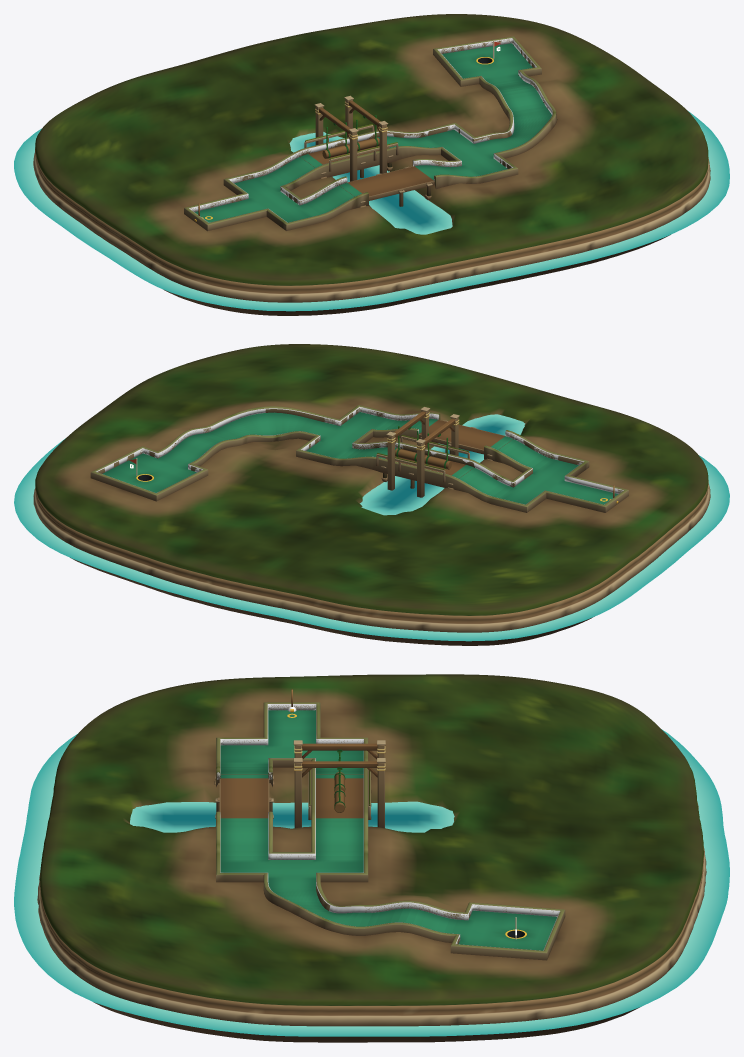
File: course-10.glb
3 views of the same model, one above another, from view 1: azimuth 30°, elevation 25°; view 2: azimuth 150°, elevation 25°; view 3: azimuth 270°, elevation 25° (orthographic). The views are drawn at different scales.
Visible parts, largest first — view 1: scenery-matte, floor-felt, water-shore, rail-trim, rail-stone, scenery-water, floor-deck; view 2: scenery-matte, floor-felt, water-shore, rail-trim, rail-stone, scenery-water, floor-deck; view 3: scenery-matte, water-shore, floor-felt, rail-trim, scenery-water, rail-stone, floor-deck.
Part boxes in pixels (x1=…): scenery-matte: x1=33, y1=14, x2=710, y2=315; floor-felt: x1=194, y1=43, x2=551, y2=222; water-shore: x1=14, y1=110, x2=729, y2=311; rail-trim: x1=184, y1=36, x2=557, y2=231; rail-stone: x1=189, y1=38, x2=552, y2=222; scenery-water: x1=289, y1=132, x2=452, y2=234; floor-deck: x1=308, y1=137, x2=433, y2=196; scenery-matte: x1=33, y1=344, x2=710, y2=645; floor-felt: x1=102, y1=412, x2=618, y2=504; water-shore: x1=14, y1=438, x2=729, y2=641; rail-trim: x1=90, y1=405, x2=628, y2=512; rail-stone: x1=96, y1=406, x2=623, y2=504; scenery-water: x1=360, y1=414, x2=525, y2=515; floor-deck: x1=385, y1=420, x2=504, y2=475; scenery-matte: x1=37, y1=674, x2=706, y2=1042; water-shore: x1=14, y1=729, x2=729, y2=1036; floor-felt: x1=220, y1=710, x2=556, y2=950; rail-trim: x1=216, y1=702, x2=565, y2=960; scenery-water: x1=130, y1=801, x2=454, y2=832; rail-stone: x1=217, y1=704, x2=560, y2=950; floor-deck: x1=220, y1=778, x2=363, y2=818.
Bounding box in the file's own units: 29.78 × 4.64 × 25.87.
